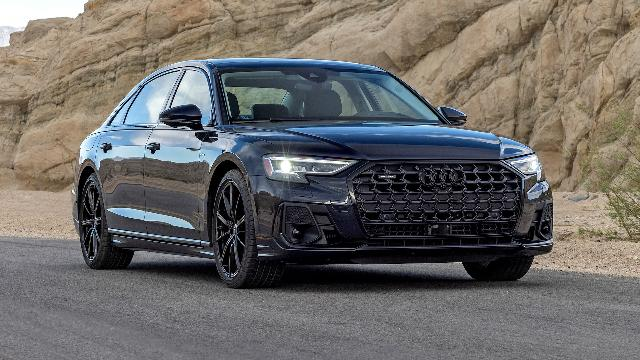audi: (72, 57, 554, 288)
